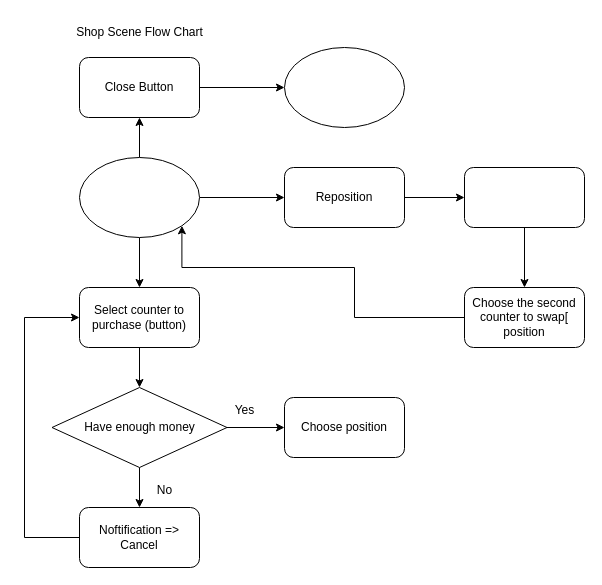
This 602x585 diagram has some shape labels left out. The shapes that lost their labels are listed below. From the top down, each one's centre as x and y in pixels, then its label:
At point 344,87: "End".
At point 139,197: "Begin".
At point 524,197: "Choose an existed counter".
